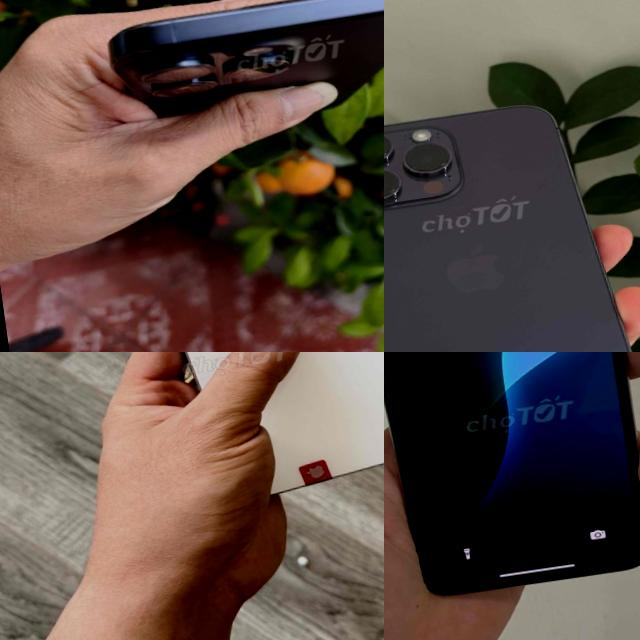gen_14: (384, 78, 640, 352)
gen_15: (96, 0, 384, 134)
gen_16: (263, 352, 384, 492)
gen_x_xs: (384, 352, 640, 595)
